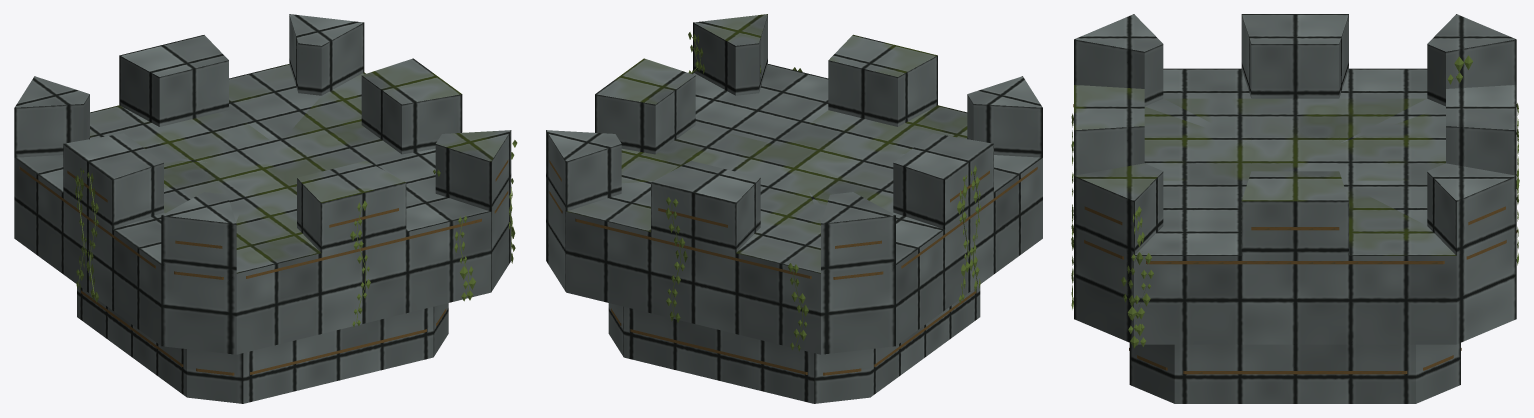
Rendered from FortressPillarHead.fbx.
The picture shows the model from 3 angles, left to right: view 1: azimuth 30°, elevation 25°; view 2: azimuth 150°, elevation 25°; view 3: azimuth 270°, elevation 25°; orthographic projection. The views are drawn at different scales.
Parts seen in each view (by area): view 1: FortressPillarHead.002; view 2: FortressPillarHead.002; view 3: FortressPillarHead.002.
Boxes of the visible parts, x1,y1,x2,y2 form: FortressPillarHead.002: (14, 14, 517, 403); FortressPillarHead.002: (546, 14, 1042, 403); FortressPillarHead.002: (1071, 14, 1519, 403).
Size of the model in its own units: 11.76 by 6.49 by 11.65.
4 materials, 3 textured.
